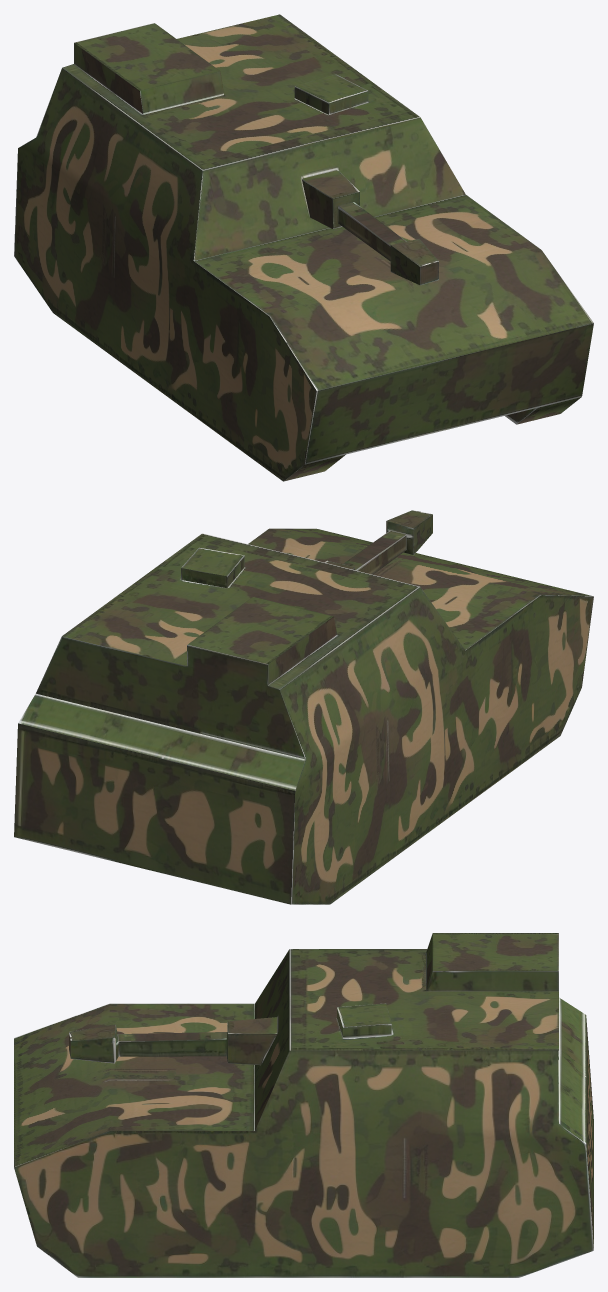
3 renders of one model, top to bottom at view 1: azimuth 30°, elevation 25°; view 2: azimuth 150°, elevation 25°; view 3: azimuth 270°, elevation 25°, orthographic. The views are drawn at different scales.
Visible parts, largest first — view 1: fe9bb26f88ce4efd9b0855ea383f3e78; view 2: fe9bb26f88ce4efd9b0855ea383f3e78; view 3: fe9bb26f88ce4efd9b0855ea383f3e78.
Boxes of the visible parts, bbox=[...] form: fe9bb26f88ce4efd9b0855ea383f3e78: bbox=[14, 14, 593, 481]; fe9bb26f88ce4efd9b0855ea383f3e78: bbox=[14, 510, 593, 904]; fe9bb26f88ce4efd9b0855ea383f3e78: bbox=[14, 933, 593, 1277].
Size of the model in its own units: 0.5286 by 0.4463 by 1.
Materials: 1 (1 with a texture image).
